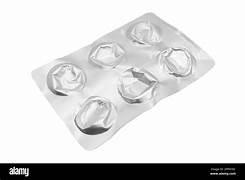pill_Strip: (32, 13, 213, 149)
